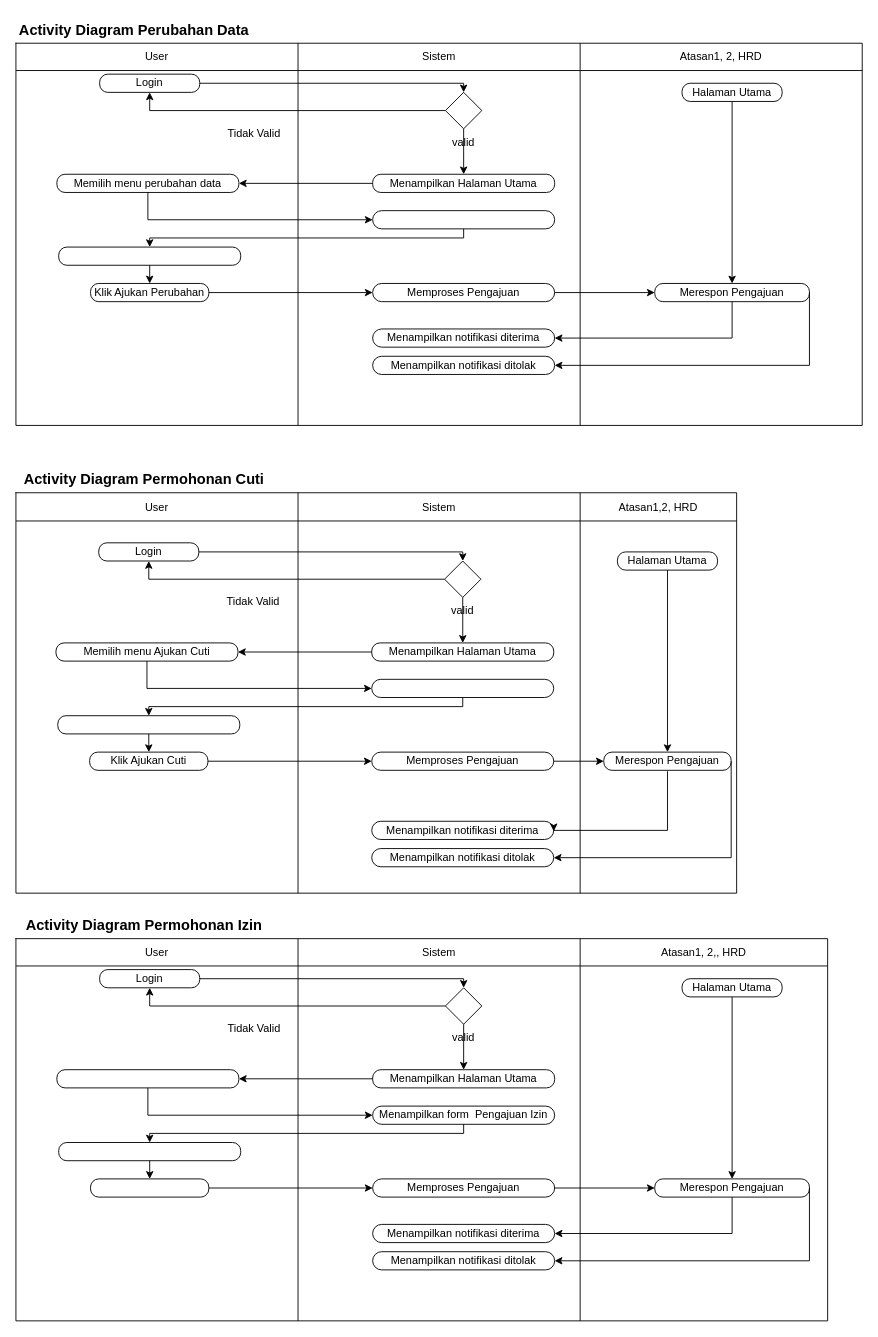
The diagram is 878 pixels wide and 1337 high, and some of its shapes have lost their labels. Here are the shapes that lost their labels. From the top down, the centre of each, then its label:
point (463, 219): Menampilkan form perubahan data
point (149, 255): Mengisi perubahan data
point (462, 688): Menampilkan form Pengajuan Cuti
point (148, 724): Mengisi form cuti
point (147, 1078): Memilih menu Ajukan Izin
point (149, 1151): Mengisi form Izin
point (149, 1187): Klik Ajukan Izin
